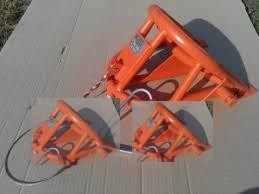chock: (104, 2, 259, 120), (31, 98, 120, 165), (132, 101, 213, 162)
